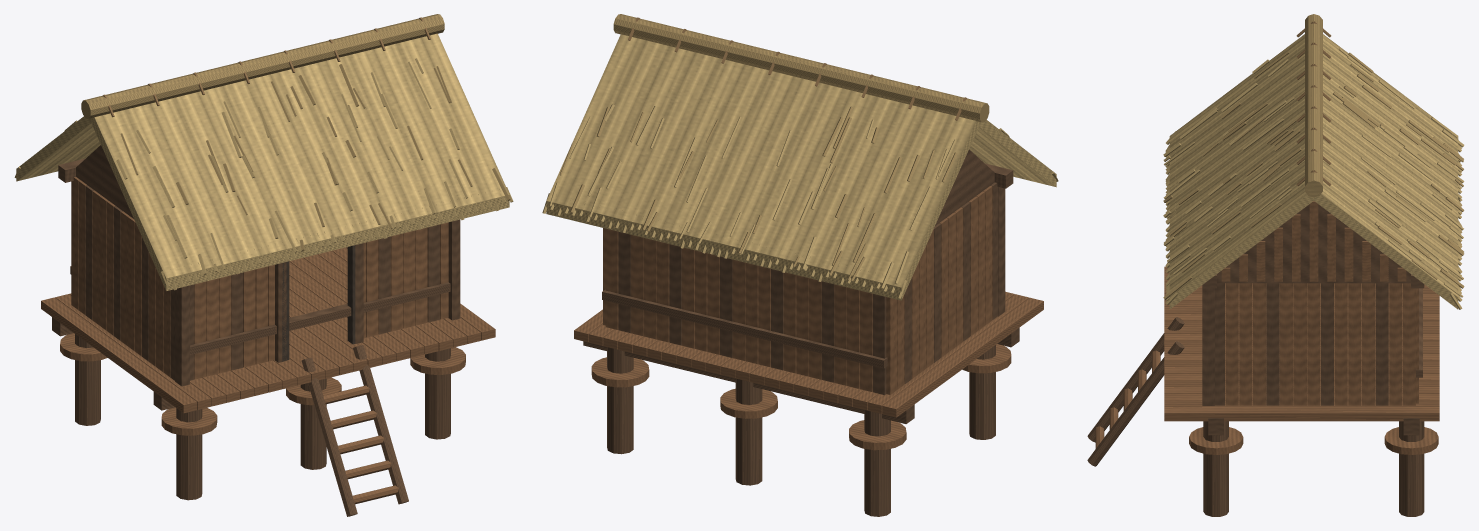
The model's file is wa_store.glb.
3 views of the same model, side by side, from view 1: azimuth 30°, elevation 25°; view 2: azimuth 150°, elevation 25°; view 3: azimuth 270°, elevation 25° (orthographic). The views are drawn at different scales.
Parts seen in each view (by area): view 1: wa_store; view 2: wa_store; view 3: wa_store.
Boxes of the visible parts, x1,y1,x2,y2 form: wa_store: [14, 14, 513, 516]; wa_store: [542, 14, 1058, 516]; wa_store: [1087, 14, 1464, 516].
Bounding box in the file's own units: 5.24 × 5.25 × 5.02.
1 material, 1 textured.
